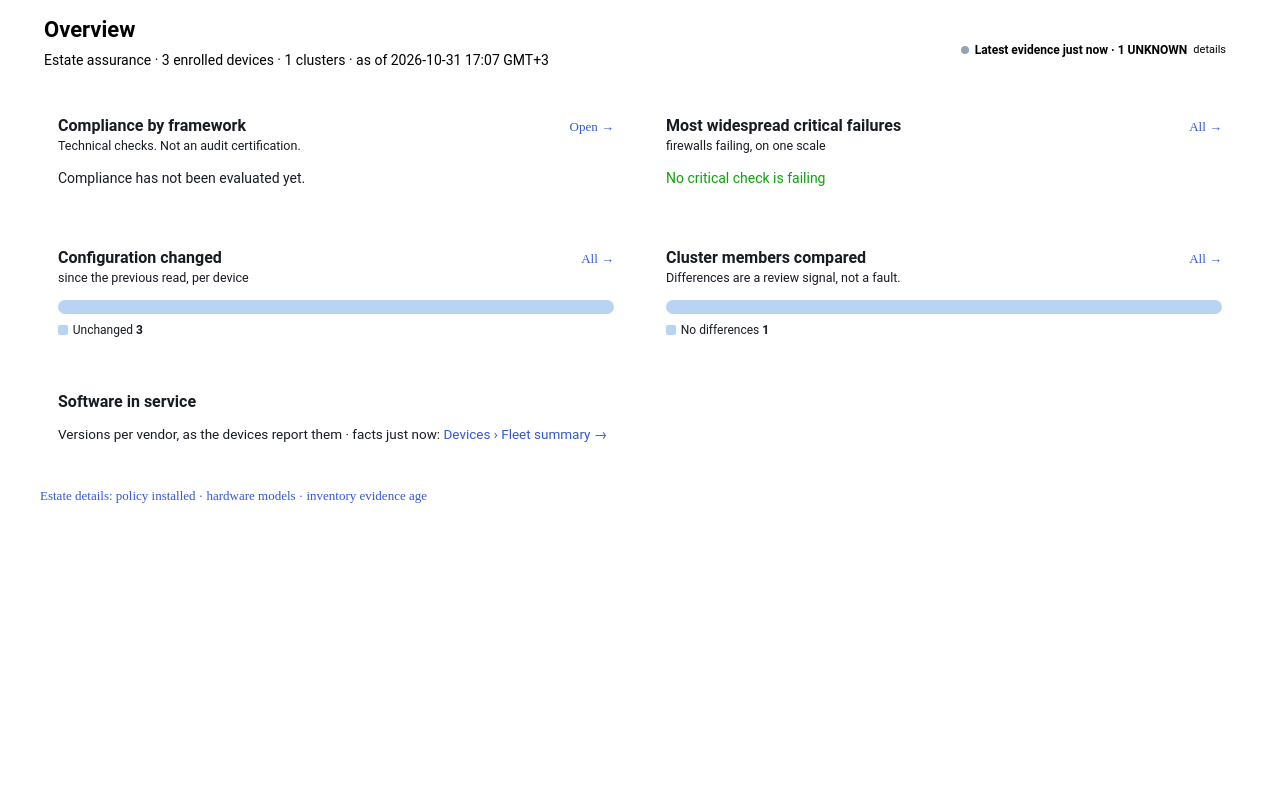
the summary itself › is the same component the Overview discloses as Estate details
This screenshot has width=1280, height=791.
Click the button "Estate details: policy installed · hardware models · inventory evidence age": (234, 496) top-left (40, 488), bottom-right (427, 504)
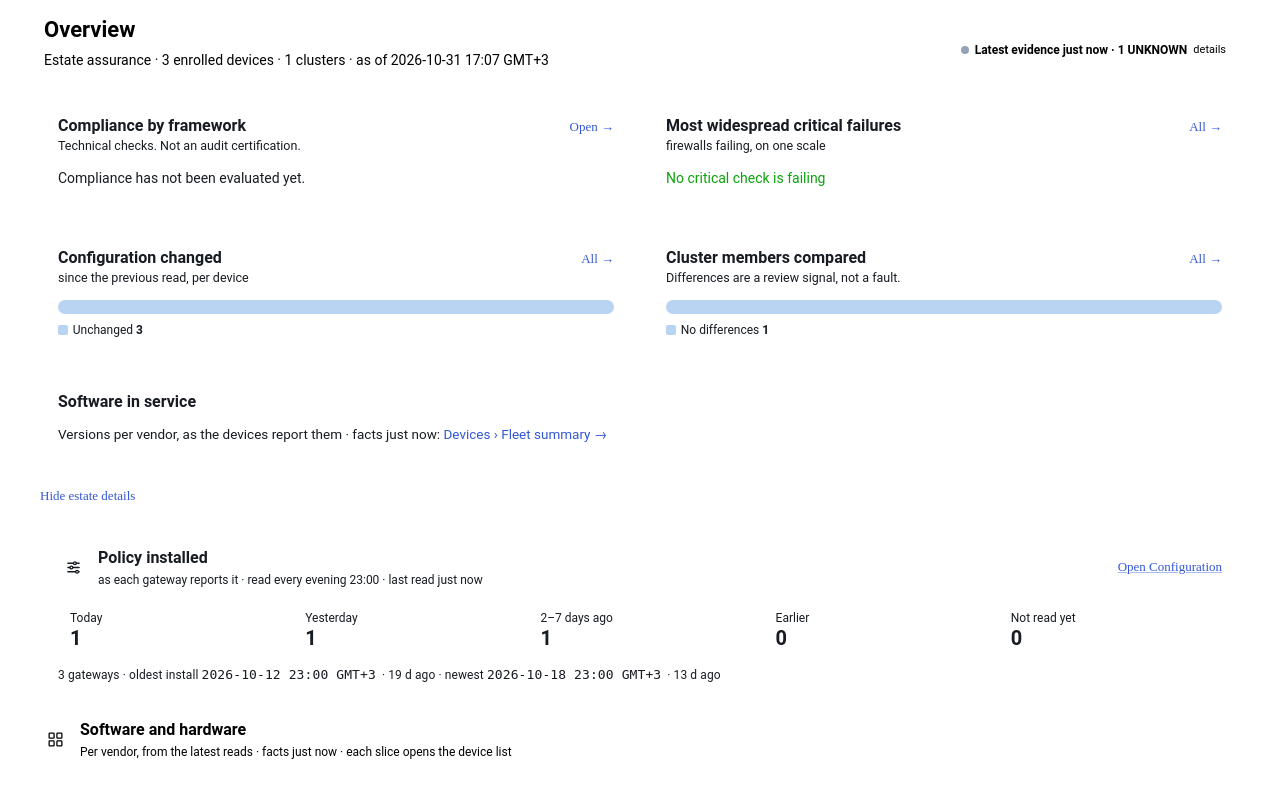
Expected: the text "Policy installed" is shown, top-left (98, 548), bottom-right (208, 567)
Result: the text "Software and hardware" is shown at top-left (80, 720), bottom-right (246, 739)
